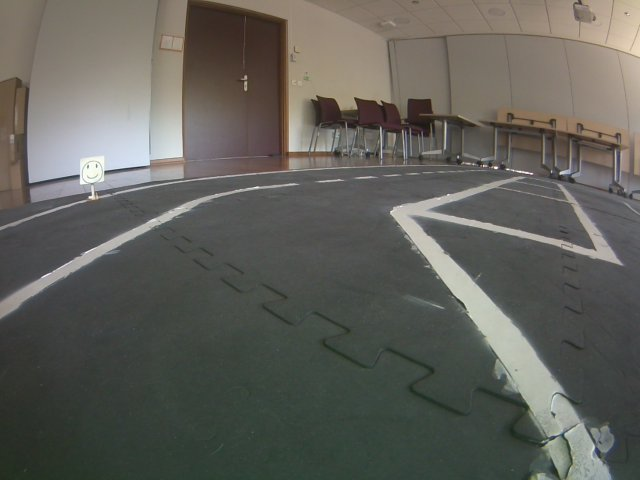Smiley: (78, 155, 104, 184)
